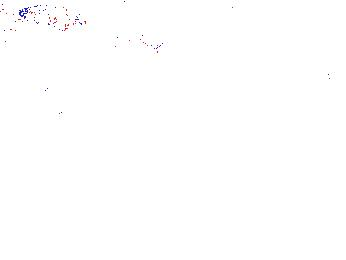red belly glassfish: (142, 41, 166, 57), (229, 2, 244, 25), (111, 1, 130, 9)
redtail glassfish: (17, 2, 88, 32), (89, 19, 153, 47), (309, 53, 346, 97)
